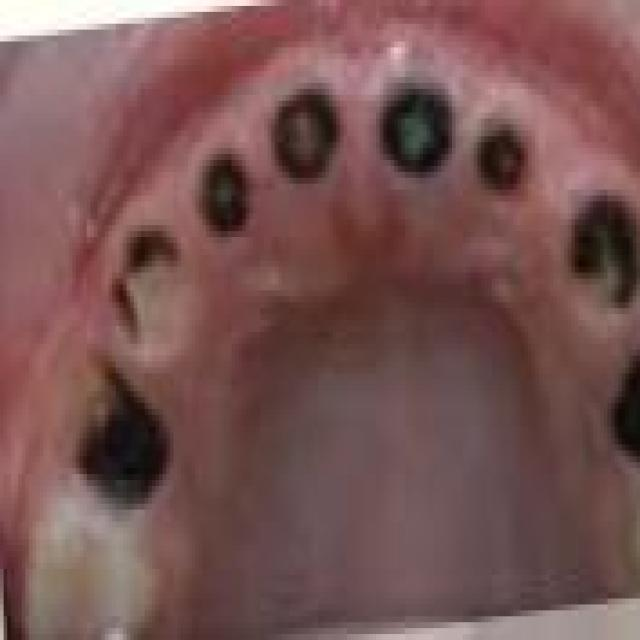caries: (64, 344, 190, 526), (105, 218, 203, 364), (556, 165, 640, 325), (368, 60, 463, 197), (262, 70, 354, 204), (185, 134, 266, 260), (466, 100, 543, 212)
